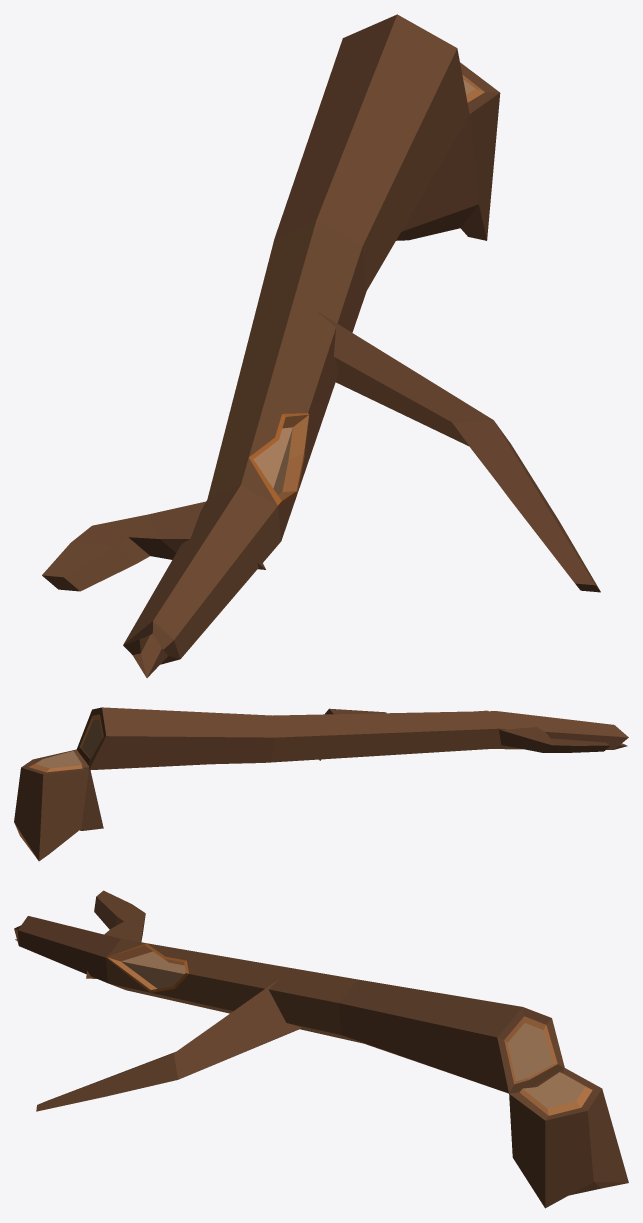
Rendered from Trunk_9.fbx.
3 views of the same model, one above another, from view 1: azimuth 30°, elevation 25°; view 2: azimuth 150°, elevation 25°; view 3: azimuth 270°, elevation 25° (orthographic). The views are drawn at different scales.
Visible parts, largest first — view 1: M_Trunk 9; view 2: M_Trunk 9; view 3: M_Trunk 9.
Part boxes in pixels (x1,y1,x2,y2): M_Trunk 9: [42, 14, 600, 677]; M_Trunk 9: [14, 707, 628, 861]; M_Trunk 9: [14, 890, 628, 1208].
Bounding box in the file's own units: 163 × 51.23 × 170.
1 material, 1 textured.
